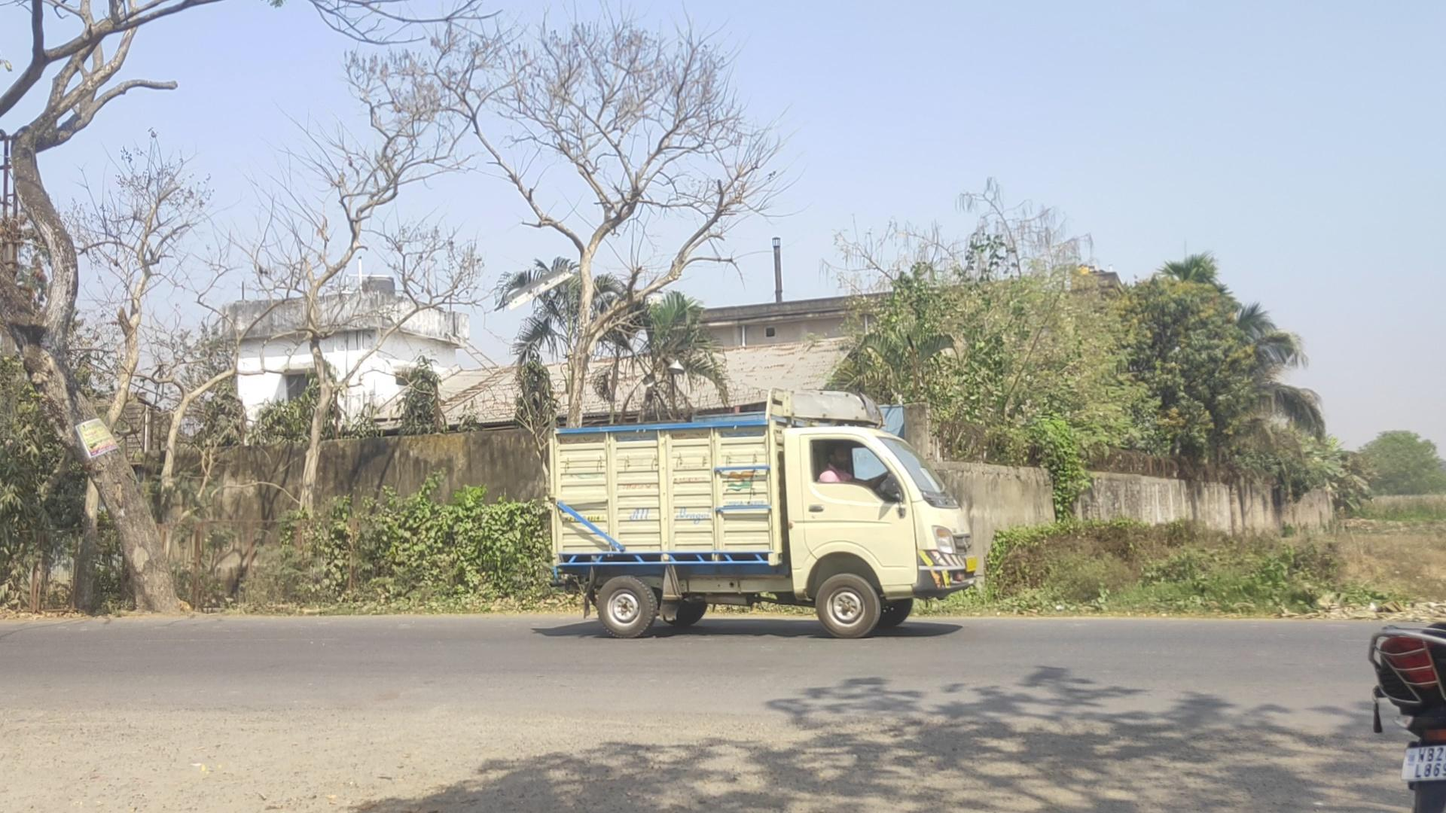van: (545, 388, 978, 640)
